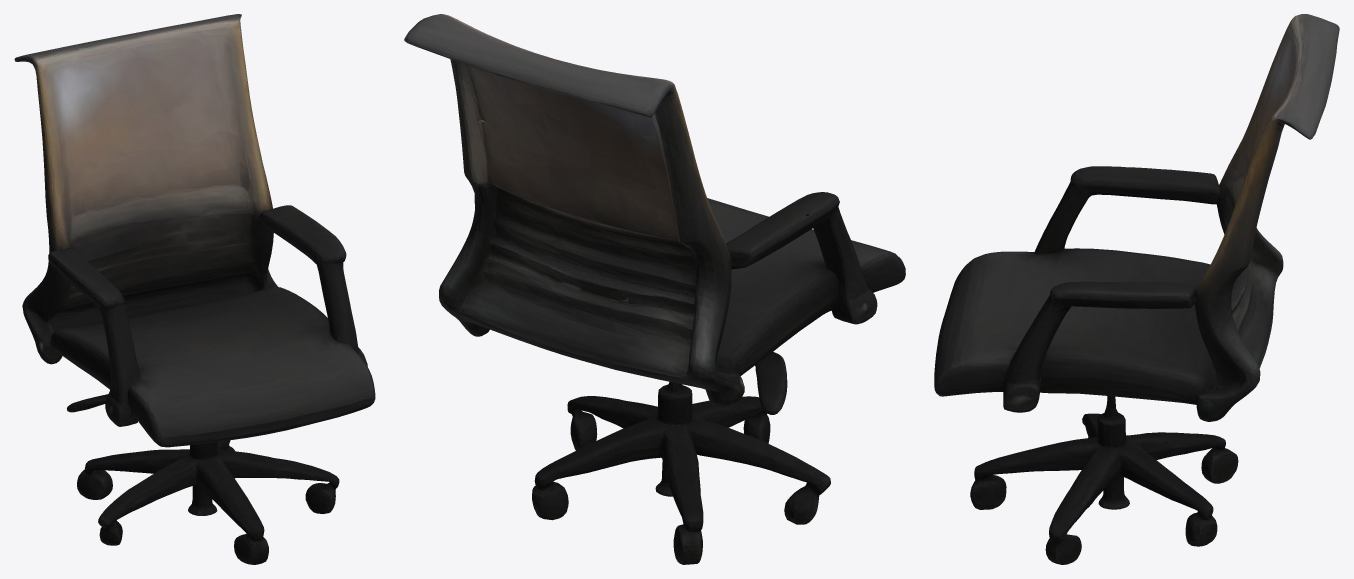
File: black_mesh_office_chair_in_center_foreground_000.glb
The picture shows the model from 3 angles, left to right: view 1: azimuth 30°, elevation 25°; view 2: azimuth 150°, elevation 25°; view 3: azimuth 270°, elevation 25°; orthographic projection. The views are drawn at different scales.
Parts seen in each view (by area): view 1: phase2_final_black_mesh_office_chair_in_center_foreground_00; view 2: phase2_final_black_mesh_office_chair_in_center_foreground_00; view 3: phase2_final_black_mesh_office_chair_in_center_foreground_00.
Part boxes in pixels (bbox=[...]): phase2_final_black_mesh_office_chair_in_center_foreground_00: bbox=[14, 14, 375, 564]; phase2_final_black_mesh_office_chair_in_center_foreground_00: bbox=[404, 14, 905, 564]; phase2_final_black_mesh_office_chair_in_center_foreground_00: bbox=[934, 14, 1339, 564].
Size of the model in its own units: 0.2804 by 0.4469 by 0.3621.
1 material, 1 textured.
